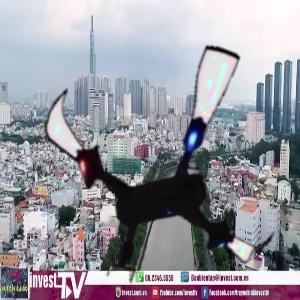drone: (34, 28, 300, 295)
